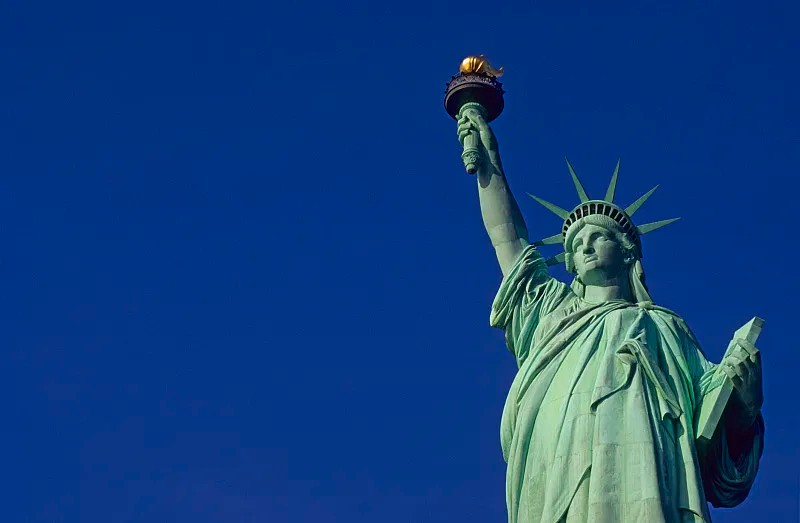SL: (444, 54, 767, 523)
